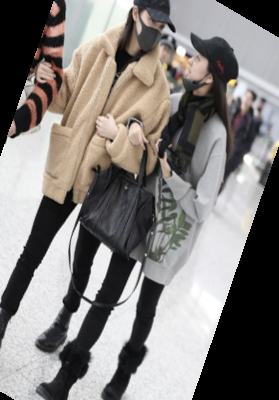mask_weared_incorrect: (182, 30, 242, 99)
